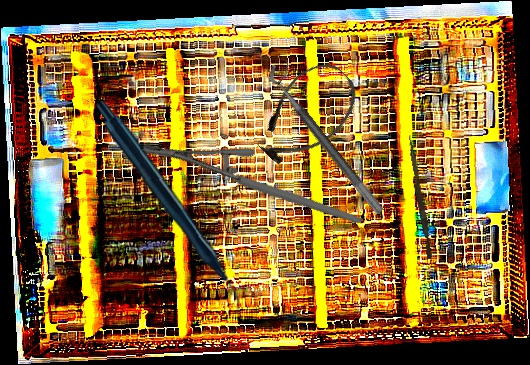Cannula: (241, 50, 371, 179)
Fixation Ring: (263, 56, 397, 216)
Handpiece: (92, 100, 244, 315)
Needle Holder: (137, 83, 364, 287)
Pusher: (403, 134, 436, 260)
